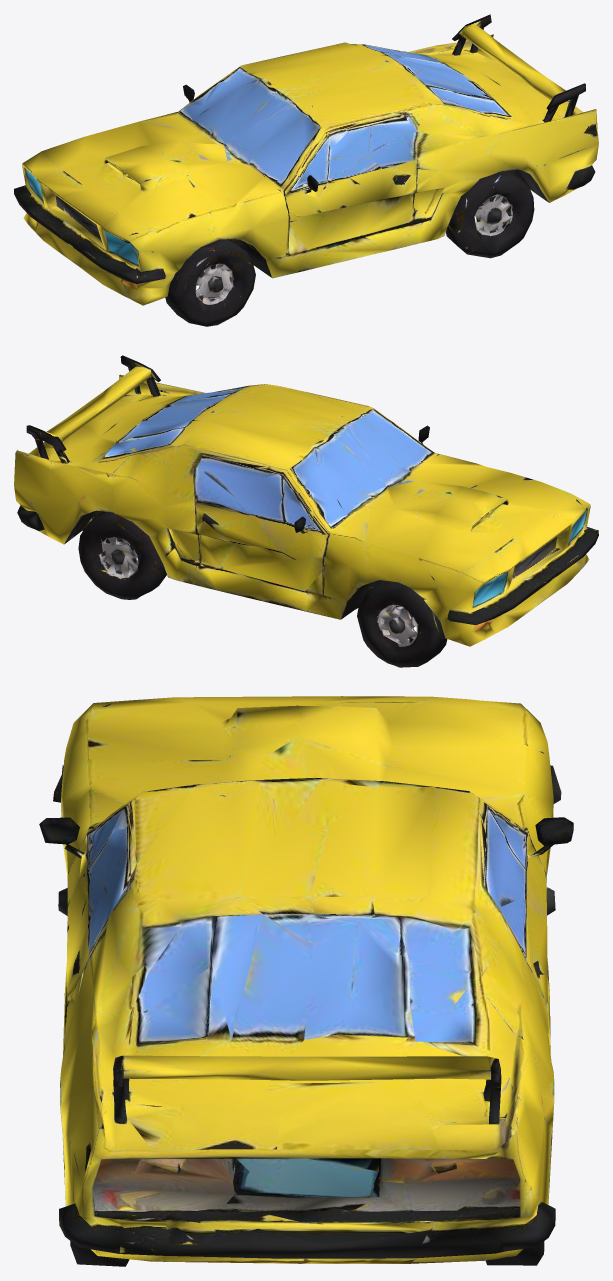
File: car2.opt.glb
3 views of the same model, one above another, from view 1: azimuth 30°, elevation 25°; view 2: azimuth 150°, elevation 25°; view 3: azimuth 270°, elevation 25° (orthographic). The views are drawn at different scales.
Parts seen in each view (by area): view 1: Mesh_0; view 2: Mesh_0; view 3: Mesh_0.
Boxes of the visible parts, x1=… form: Mesh_0: x1=14, y1=14, x2=598, y2=326; Mesh_0: x1=14, y1=355, x2=598, y2=667; Mesh_0: x1=39, y1=696, x2=573, y2=1266.
Bounding box in the file's own units: 1.9 × 0.611 × 0.9079.
1 material, 1 textured.
